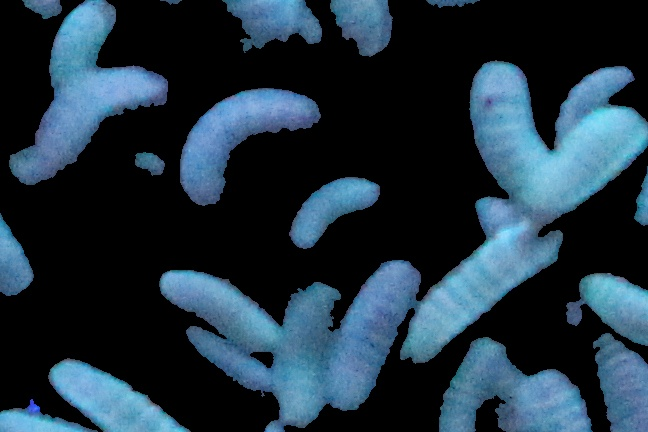larvae: (408, 222, 551, 357), (177, 91, 321, 205), (23, 70, 147, 188), (532, 110, 643, 217), (330, 264, 417, 397), (464, 61, 547, 188), (51, 359, 178, 432), (276, 287, 327, 430), (162, 269, 257, 343), (447, 340, 513, 432), (286, 179, 376, 244), (589, 334, 648, 432), (556, 69, 641, 137), (58, 1, 117, 94), (515, 364, 591, 432), (188, 331, 265, 395), (579, 273, 648, 341), (1, 157, 33, 296), (338, 1, 392, 54), (1, 1, 62, 20)
